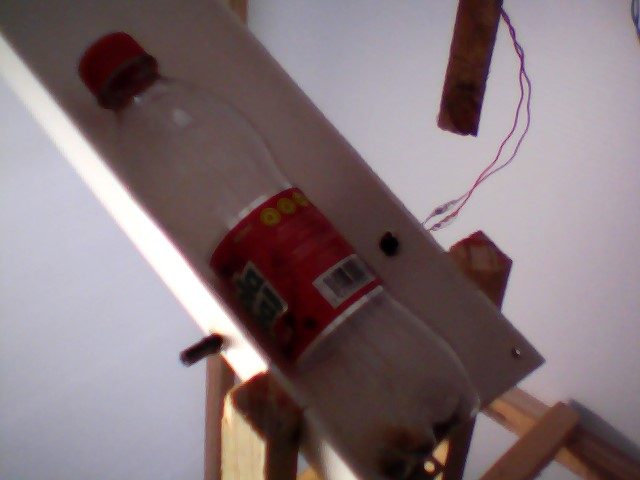plastico: (69, 28, 494, 474)
